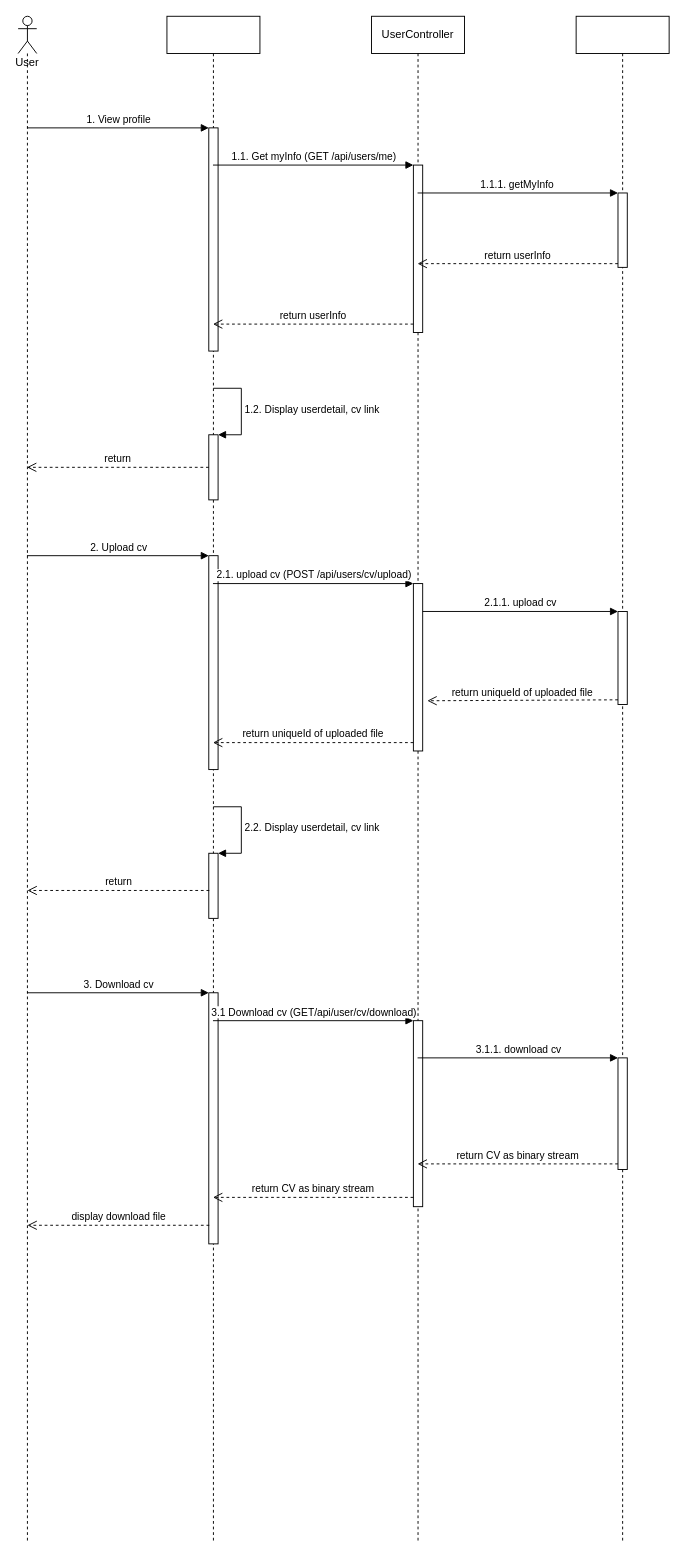
This 685x1558 diagram has some shape labels left out. Each missing label, with the box of its shape:
Profile page (UI): (166, 15, 260, 1541)
UserService: (575, 15, 669, 1541)
